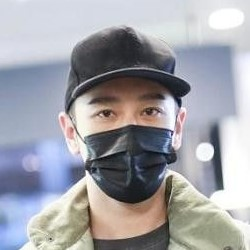mask: (75, 126, 179, 205)
